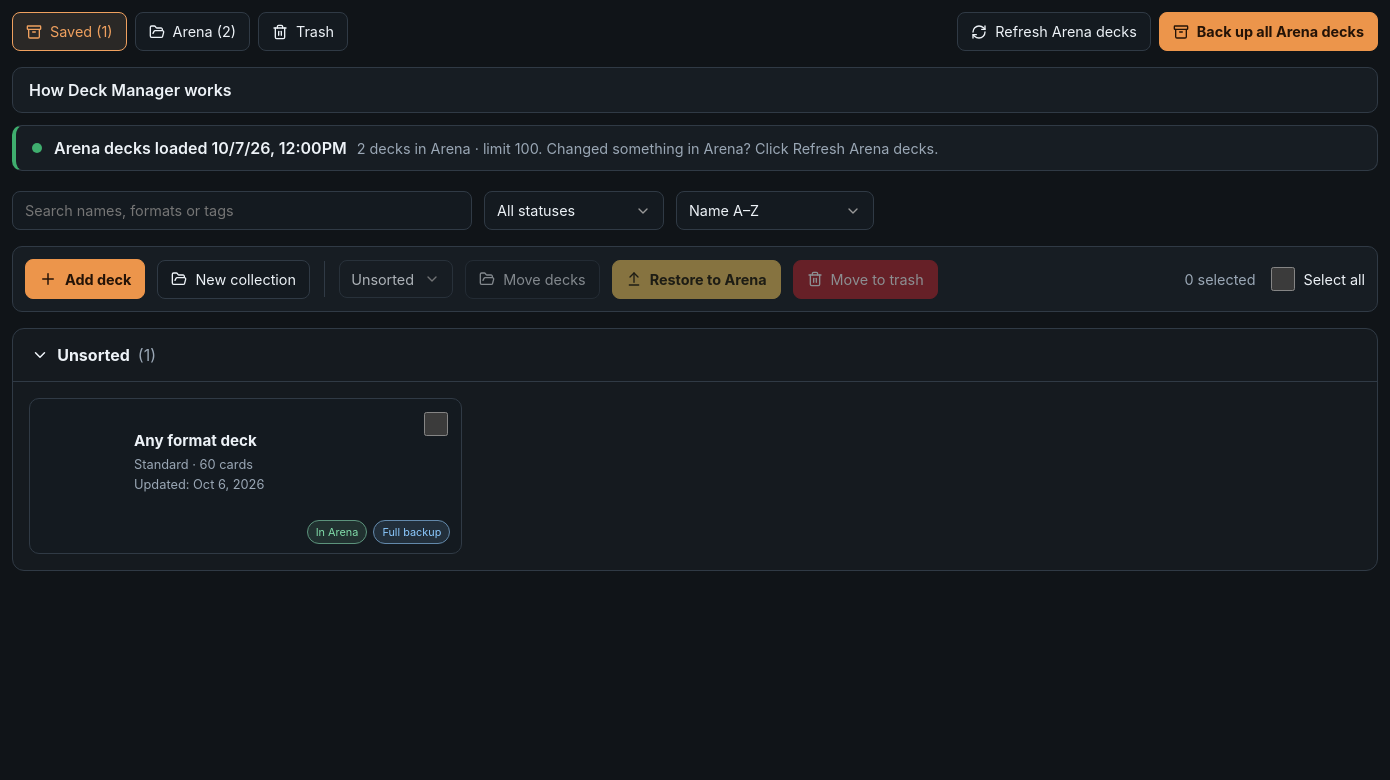
Scenario: selects decks already in Arena for local removal while rejecting a mixed restore selection
Click the checkbox named "Select Any format deck".
click(436, 424)  # box x1=424 y1=412 x2=448 y2=436
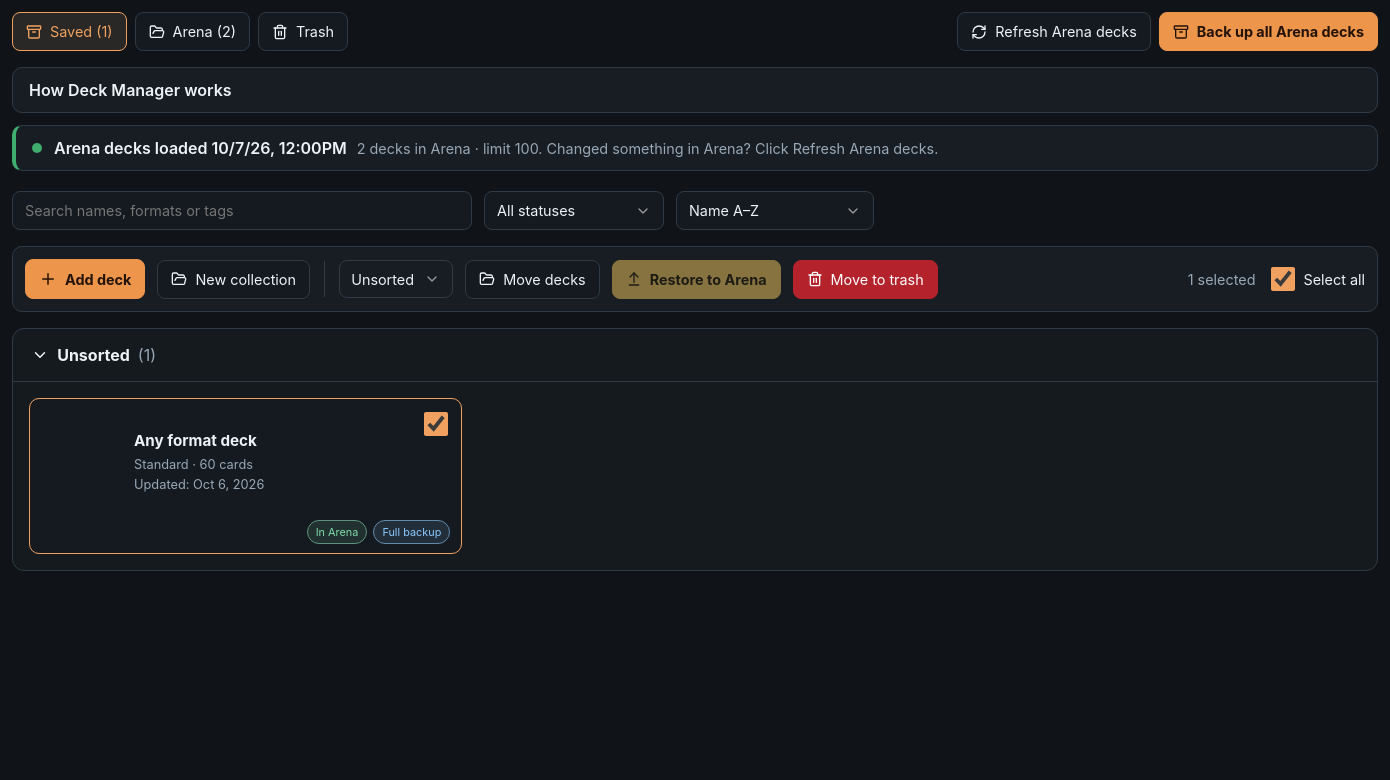
Expected: the button with aria-label "Restore selected to Arena" is disabled, x1=612 y1=260 x2=781 y2=298
Now the button with aria-label "Move selected to trash" is enabled, box x1=793 y1=260 x2=938 y2=298
